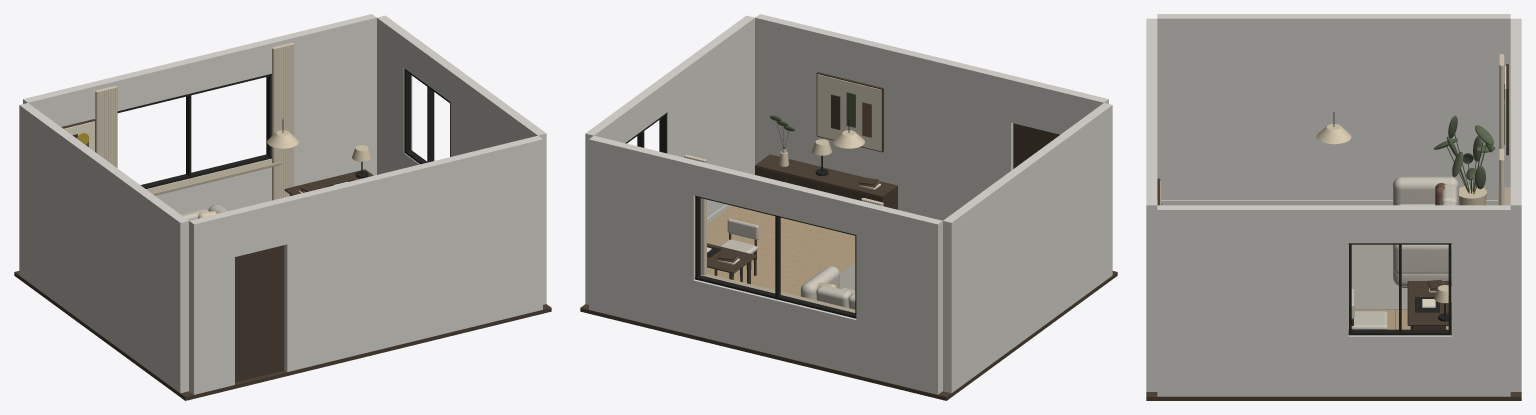
File: space.glb
The picture shows the model from 3 angles, left to right: view 1: azimuth 30°, elevation 25°; view 2: azimuth 150°, elevation 25°; view 3: azimuth 270°, elevation 25°; orthographic projection. The views are drawn at different scales.
Visible parts, largest first — view 1: south plaster wall.002, west plaster wall, north plaster wall.003, south plaster wall, Flush timber door, north plaster wall.002, east plaster wall, east plaster wall.003, north plaster wall.001, Continuous subfloor, south plaster wall.001, north plaster wall (+8 smaller); view 2: south plaster wall.002, west plaster wall, north plaster wall.003, north plaster wall, east plaster wall, north plaster wall.001, north plaster wall.002, Sideboard art linen, Continuous subfloor, south plaster wall.001, east plaster wall.002, Top panel 20mm (+18 smaller); view 3: west plaster wall, east plaster wall, east plaster wall.003, east plaster wall.001, east plaster wall.002, south plaster wall.002, Bound wool area rug, north plaster wall.003, Continuous subfloor, Rounded upholstered arm.001, Painted baseboard.003, Rounded upholstered arm (+11 smaller).
Part boxes in pixels (bbox=[...]): south plaster wall.002: bbox=[282, 135, 542, 371]; west plaster wall: bbox=[19, 103, 188, 393]; north plaster wall.003: bbox=[267, 14, 376, 186]; south plaster wall: bbox=[189, 211, 234, 394]; Flush timber door: bbox=[235, 245, 284, 382]; north plaster wall.002: bbox=[104, 39, 272, 110]; east plaster wall: bbox=[450, 69, 546, 304]; east plaster wall.003: bbox=[377, 15, 412, 174]; north plaster wall.001: bbox=[146, 158, 271, 213]; Continuous subfloor: bbox=[14, 271, 551, 400]; south plaster wall.001: bbox=[230, 198, 287, 256]; north plaster wall: bbox=[23, 79, 109, 126]; south plaster wall.002: bbox=[755, 14, 1015, 220]; west plaster wall: bbox=[943, 103, 1112, 393]; north plaster wall.003: bbox=[589, 135, 698, 335]; north plaster wall: bbox=[856, 201, 942, 394]; east plaster wall: bbox=[659, 15, 754, 217]; north plaster wall.001: bbox=[693, 279, 856, 374]; north plaster wall.002: bbox=[693, 161, 860, 234]; Sideboard art linen: bbox=[817, 74, 881, 151]; Continuous subfloor: bbox=[580, 271, 1117, 400]; south plaster wall.001: bbox=[1011, 76, 1067, 134]; east plaster wall.002: bbox=[612, 79, 667, 142]; Top panel 20mm: bbox=[755, 154, 897, 197]; west plaster wall: bbox=[1157, 14, 1510, 199]; east plaster wall: bbox=[1157, 205, 1348, 396]; east plaster wall.003: bbox=[1451, 205, 1510, 396]; east plaster wall.001: bbox=[1348, 335, 1451, 396]; east plaster wall.002: bbox=[1348, 205, 1451, 243]; south plaster wall.002: bbox=[1146, 68, 1157, 391]; Bound wool area rug: bbox=[1348, 244, 1407, 309]; north plaster wall.003: bbox=[1510, 149, 1521, 391]; Continuous subfloor: bbox=[1146, 310, 1521, 400]; Rounded upholstered arm.001: bbox=[1393, 244, 1451, 273]; Painted baseboard.003: bbox=[1161, 200, 1497, 205]; Rounded upholstered arm: bbox=[1393, 176, 1458, 205].
Size of the model in its own units: 6.3 by 2.87 by 5.1.
